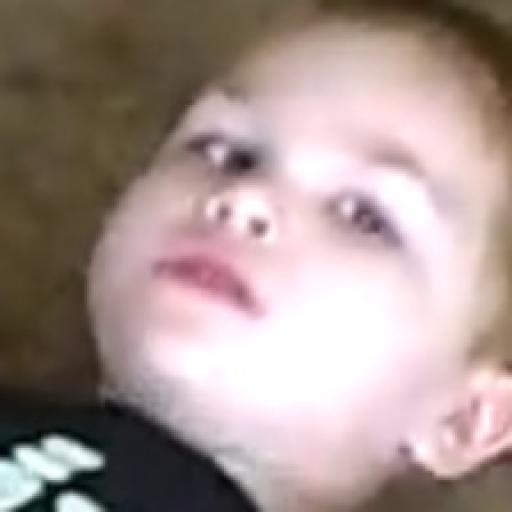Autism: (75, 8, 512, 466)
